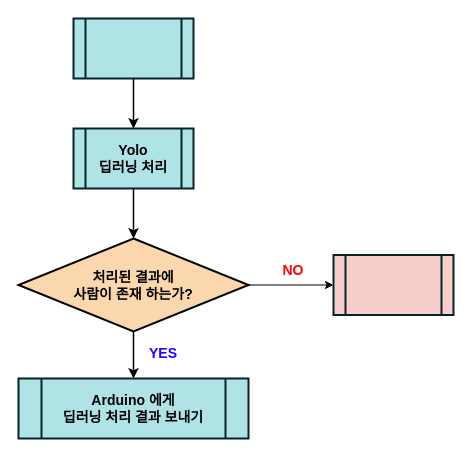
The diagram is 471 pixels wide and 456 high, and some of its shapes have lost their labels. The shapes that lost their labels are listed below. From the top down, each one's box as (x1, y1, x2, y2) in pixels, then its label:
(72, 17, 194, 79): 카메라에서 이미지 Load
(332, 254, 454, 316): 다음 이미지 처리 준비
